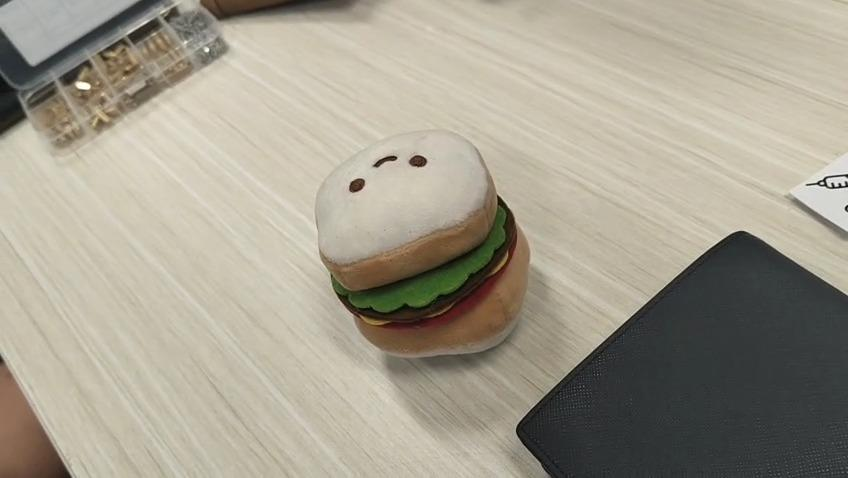objects: (315, 129, 530, 358)
